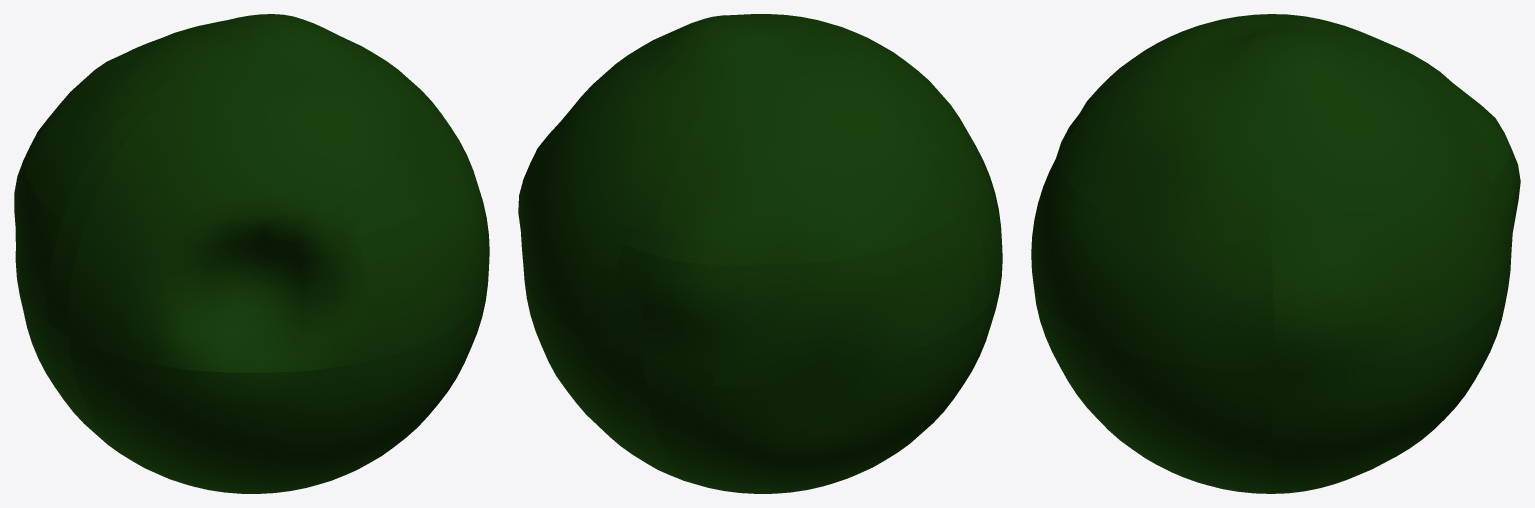
Rendered from PlanetMaybe.fbx.
The picture shows the model from 3 angles, left to right: view 1: azimuth 30°, elevation 25°; view 2: azimuth 150°, elevation 25°; view 3: azimuth 270°, elevation 25°; orthographic projection.
Parts seen in each view (by area): view 1: PlanetLeftFrontTop, PlanetLeftFrontBottom, PlanetRigthFront2, PlanetRightFront1, PlanetBackTop1_2, PlanetLeftBottom2, PlanetLeftBackTop2, PlanetBackTop1_1, PlannetLeftBackBottom, PlanetRightBack; view 2: PlanetBackTop1_2, PlanetRightBack, PlanetBackTop1_1, PlannetLeftBackBottom, PlanetLeftFrontTop, PlanetLeftBottom1, PlanetLeftBackTop2, PlanetRigthFront2, PlanetLeftFrontBottom; view 3: PlanetRightBack, PlanetRigthFront2, PlanetRightFront1, PlanetLeftBottom2, PlanetLeftBottom1, PlanetBackTop1_2, PlanetLeftFrontTop, PlanetBackTop1_1.
Part boxes in pixels (x1,y1,x2,y2): PlanetLeftFrontTop: [68, 38, 371, 372]; PlanetLeftFrontBottom: [69, 337, 370, 493]; PlanetRigthFront2: [253, 27, 462, 236]; PlanetRightFront1: [358, 141, 489, 360]; PlanetBackTop1_2: [23, 23, 252, 220]; PlanetLeftBottom2: [316, 285, 487, 485]; PlanetLeftBackTop2: [47, 55, 223, 336]; PlanetBackTop1_1: [14, 161, 61, 323]; PlannetLeftBackBottom: [17, 281, 130, 459]; PlanetRightBack: [202, 14, 380, 57]; PlanetBackTop1_2: [623, 32, 955, 265]; PlanetRightBack: [518, 20, 762, 358]; PlanetBackTop1_1: [615, 217, 970, 386]; PlannetLeftBackBottom: [643, 308, 986, 493]; PlanetLeftFrontTop: [763, 20, 1002, 306]; PlanetLeftBottom1: [524, 282, 698, 484]; PlanetLeftBackTop2: [795, 48, 986, 320]; PlanetRigthFront2: [630, 14, 815, 53]; PlanetLeftFrontBottom: [956, 278, 1001, 395]; PlanetRightBack: [1270, 32, 1513, 372]; PlanetRigthFront2: [1057, 33, 1272, 245]; PlanetRightFront1: [1031, 156, 1273, 372]; PlanetLeftBottom2: [1034, 288, 1271, 493]; PlanetLeftBottom1: [1271, 273, 1510, 493]; PlanetBackTop1_2: [1270, 14, 1511, 184]; PlanetLeftFrontTop: [1056, 14, 1271, 157]; PlanetBackTop1_1: [1491, 149, 1520, 251].
Bounding box in the file's own units: 9.52 × 9.28 × 9.5.
